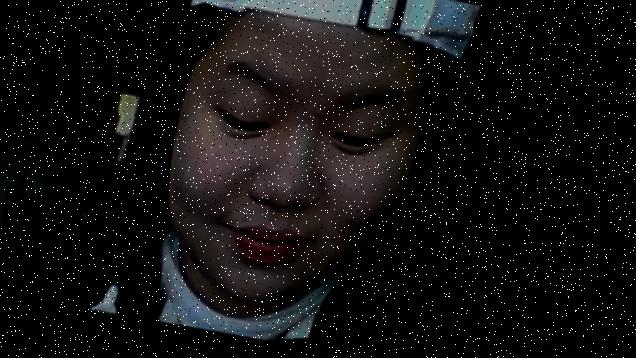iris: (224, 116, 274, 139), (335, 132, 383, 154)
